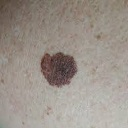Melanoma: (41, 51, 79, 89)
